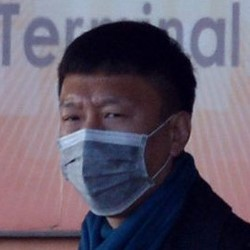mask: (53, 121, 160, 216)
